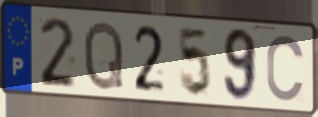2: (37, 16, 78, 90), (132, 23, 167, 96)
5: (176, 26, 213, 99)
9: (221, 26, 260, 105)
C: (265, 33, 307, 104)
Q: (82, 18, 126, 93)
